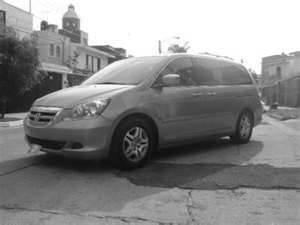car: (23, 56, 264, 170)
